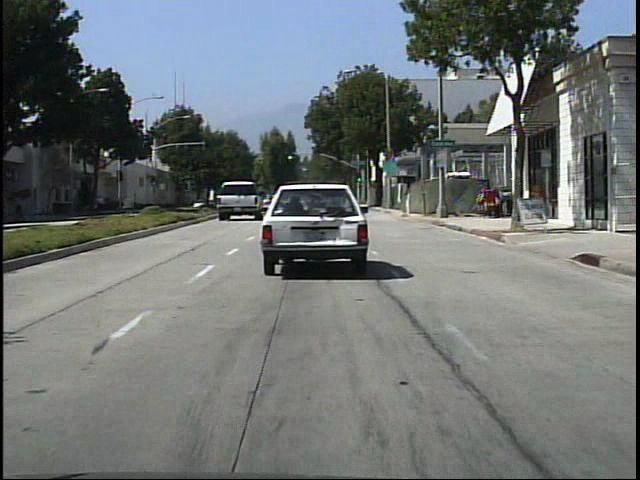person: (14, 195, 33, 227)
